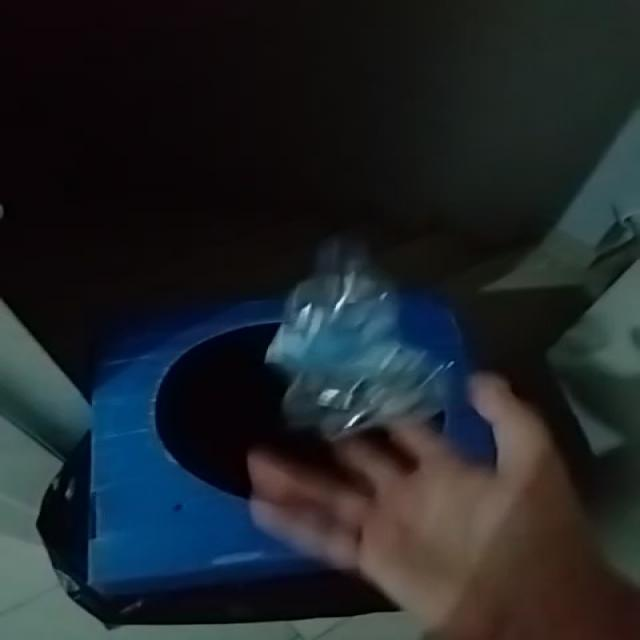plastic: (265, 238, 455, 440)
